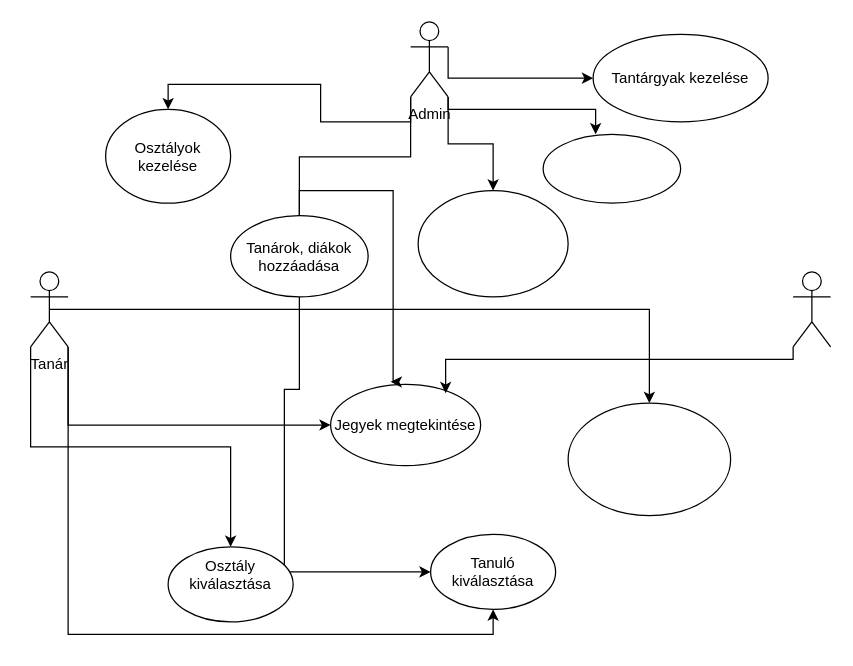
This 853x666 diagram has some shape labels left out. The box of each missing label's shape, as (x1, y1, x2, y2) in pixels:
Diák: (792, 271, 831, 347)
Felhasználók kezelése: (542, 133, 681, 203)
Jegyek Hozzáadása, módosítása,törlése: (567, 402, 731, 516)
Szerepek kiosztása: (417, 189, 568, 297)
